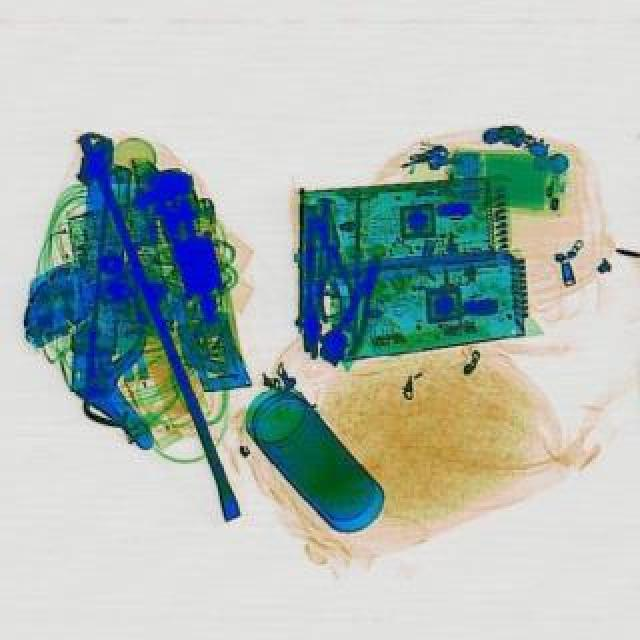wrench: (306, 202, 362, 328), (330, 256, 394, 362)
